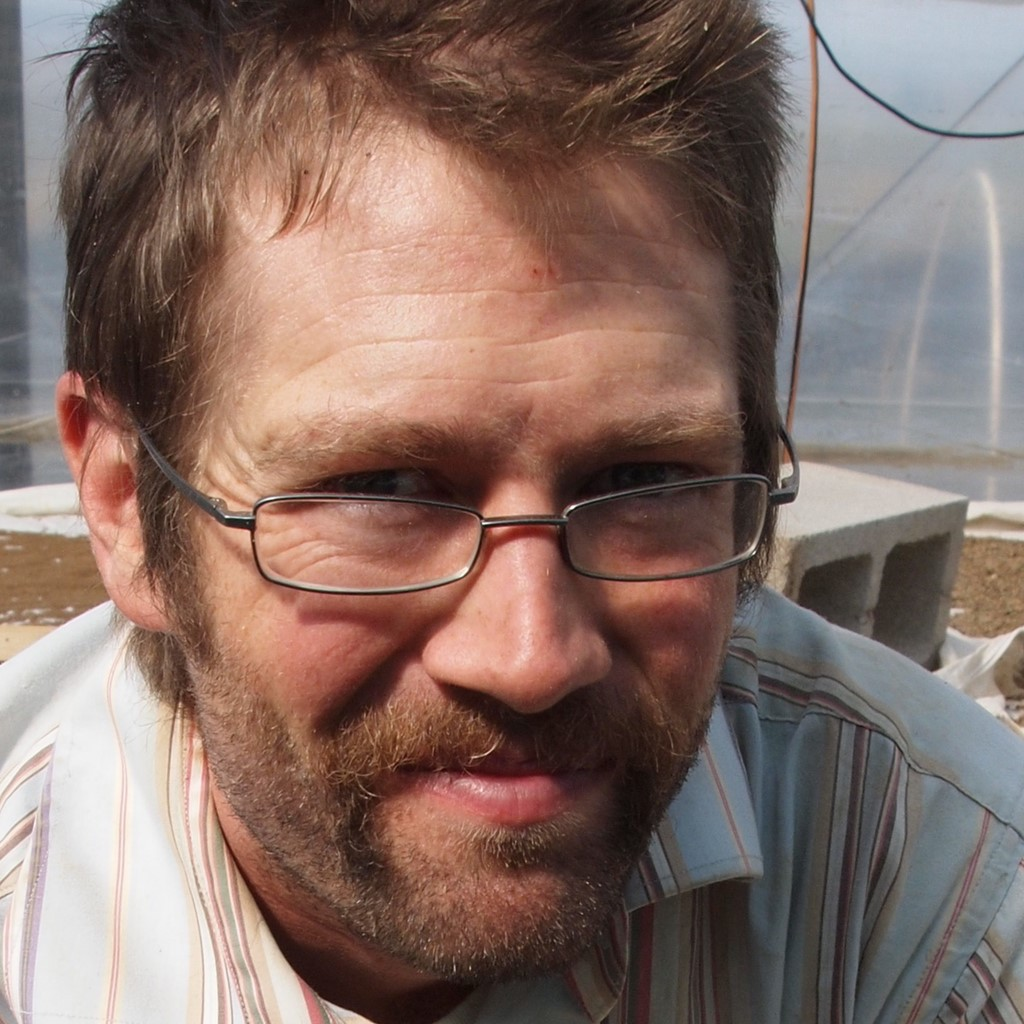sin_mascara: (112, 67, 781, 952)
